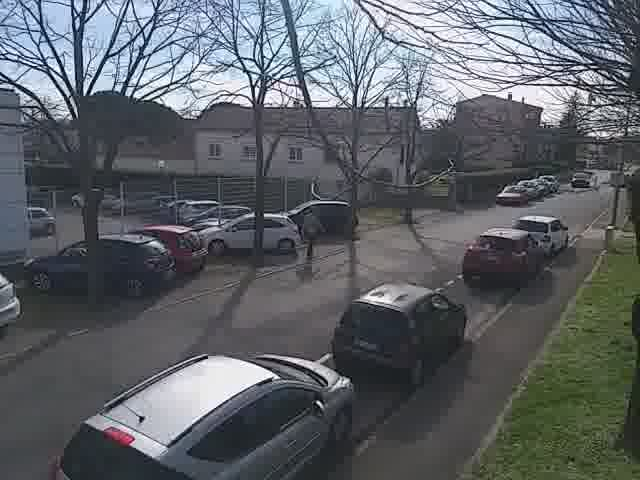persona: (294, 198, 327, 265)
